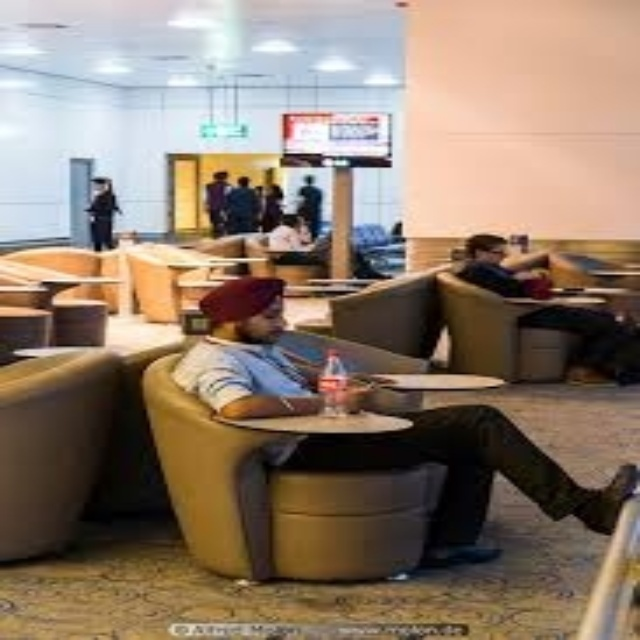Sitting: (177, 272, 629, 537), (445, 224, 640, 383), (270, 215, 322, 264)
Walking: (74, 172, 127, 251), (196, 171, 229, 236)
